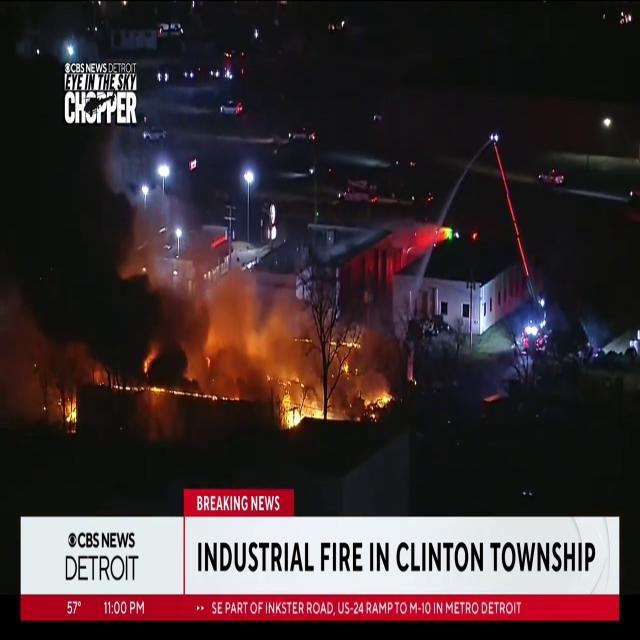Fire: (278, 378, 312, 434), (61, 389, 79, 432)
Smoke: (182, 227, 292, 381)
